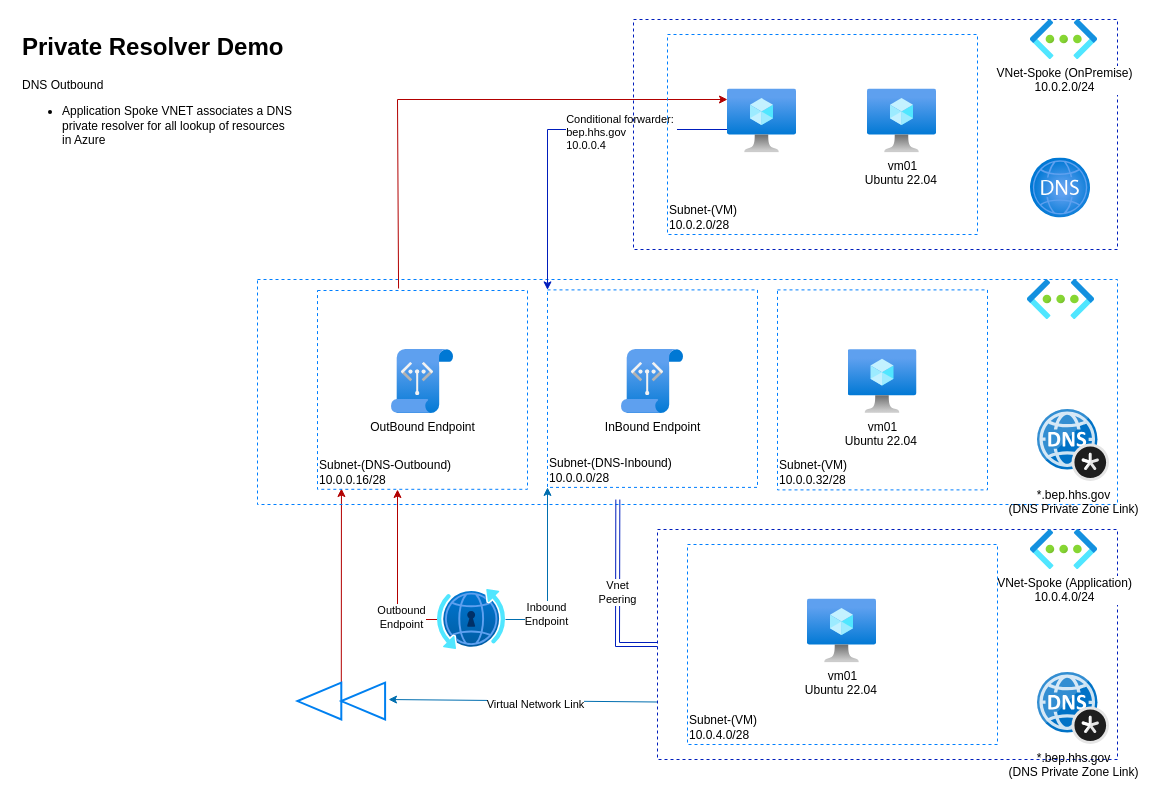
Some shapes in this 1155 by 801 pixel diagram are drawn without their labels. Here are the shapes that lost their labels. From the top down, the centre of each, then its label:
the point at 761,120: DNS Server Windows Server 2019 10.0.2.10
the point at 1060,187: *.onpremise.hhs.gov
the point at 1060,299: Vnet (Hub) 10.0.0.0/24
the point at 471,619: DNS Private Resolver
the point at 341,700: DNS Forwarding Ruleset Rule: *.onpremise.hhs.gov 10.0.2.10
